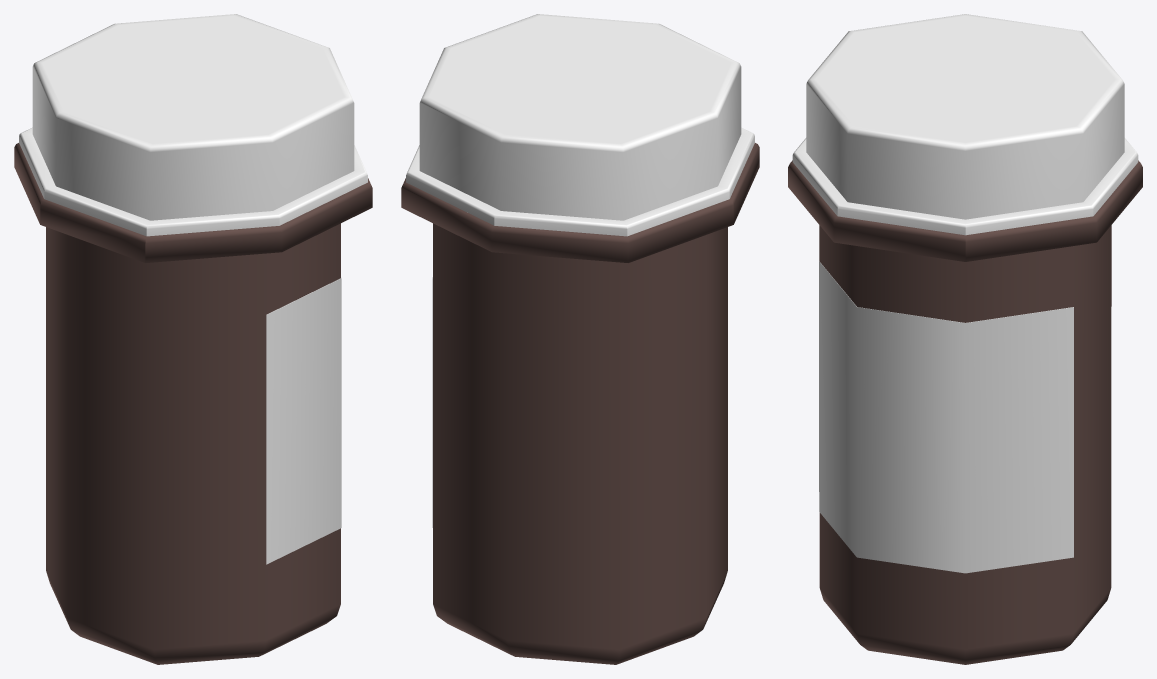
The model's file is botella de medicina.fbx.
The picture shows the model from 3 angles, left to right: view 1: azimuth 30°, elevation 25°; view 2: azimuth 150°, elevation 25°; view 3: azimuth 270°, elevation 25°; orthographic projection.
Parts seen in each view (by area): view 1: tapadera_Med_MSH1; view 2: tapadera_Med_MSH1; view 3: tapadera_Med_MSH1.
Boxes of the visible parts, x1,y1,x2,y2 form: tapadera_Med_MSH1: (14, 14, 372, 664); tapadera_Med_MSH1: (401, 14, 759, 664); tapadera_Med_MSH1: (788, 14, 1142, 664).
Size of the model in its own units: 2.19 by 3.64 by 2.19.
